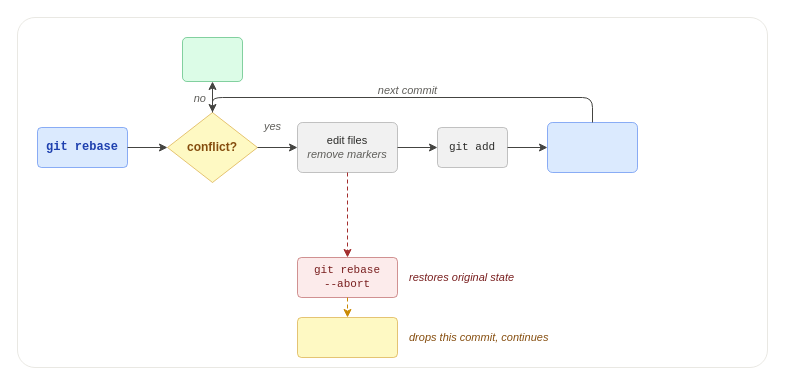
This 785x385 diagram has some shape labels left out. The shapes that lost their labels are listed below. From the top down, each one's centre as x and y in pixels, then its label:
point (212, 59): rebase complete
point (592, 147): git rebase --continue
point (347, 337): git rebase --skip
